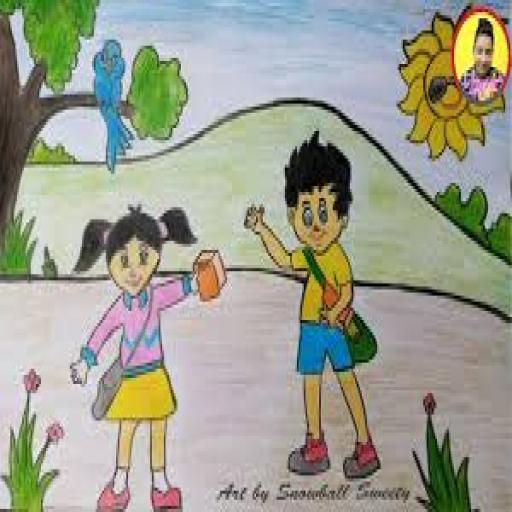person: (64, 188, 230, 509), (243, 117, 384, 489)
